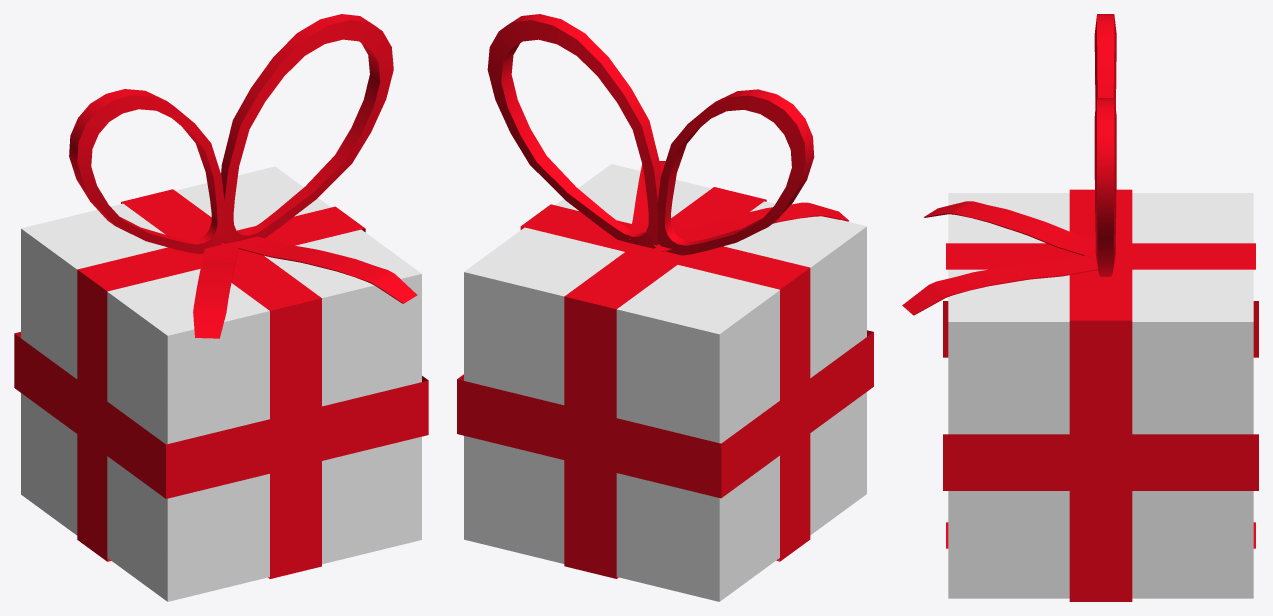
File: Presente.fbx
3 renders of one model, left to right at view 1: azimuth 30°, elevation 25°; view 2: azimuth 150°, elevation 25°; view 3: azimuth 270°, elevation 25°, orthographic. The views are drawn at different scales.
Visible parts, largest first — view 1: Presente; view 2: Presente; view 3: Presente.
Part boxes in pixels (x1,y1,x2,y2): Presente: (14, 14, 428, 601); Presente: (457, 14, 873, 601); Presente: (902, 14, 1258, 601).
Size of the model in its own units: 66.7 by 94.6 by 62.61.
Materials: 1 (1 with a texture image).
